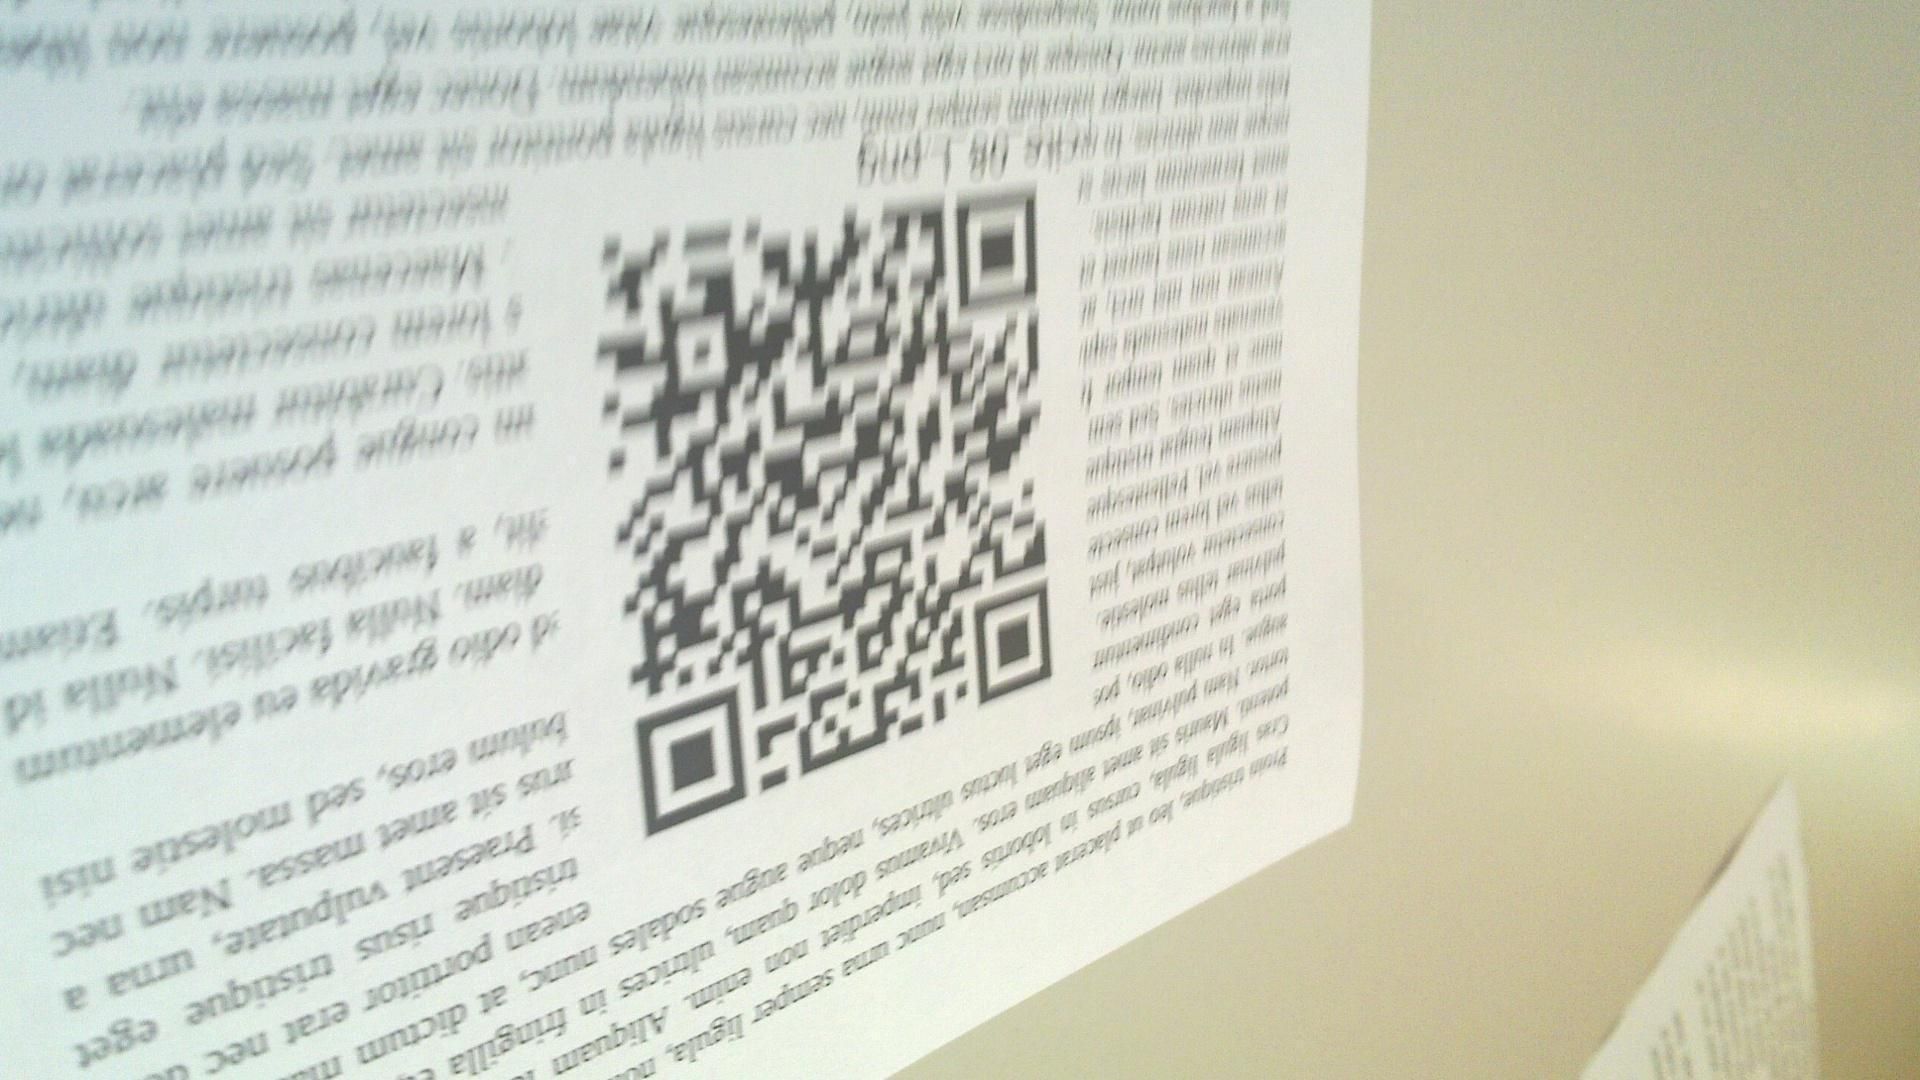qr_code: (601, 190, 1054, 837)
